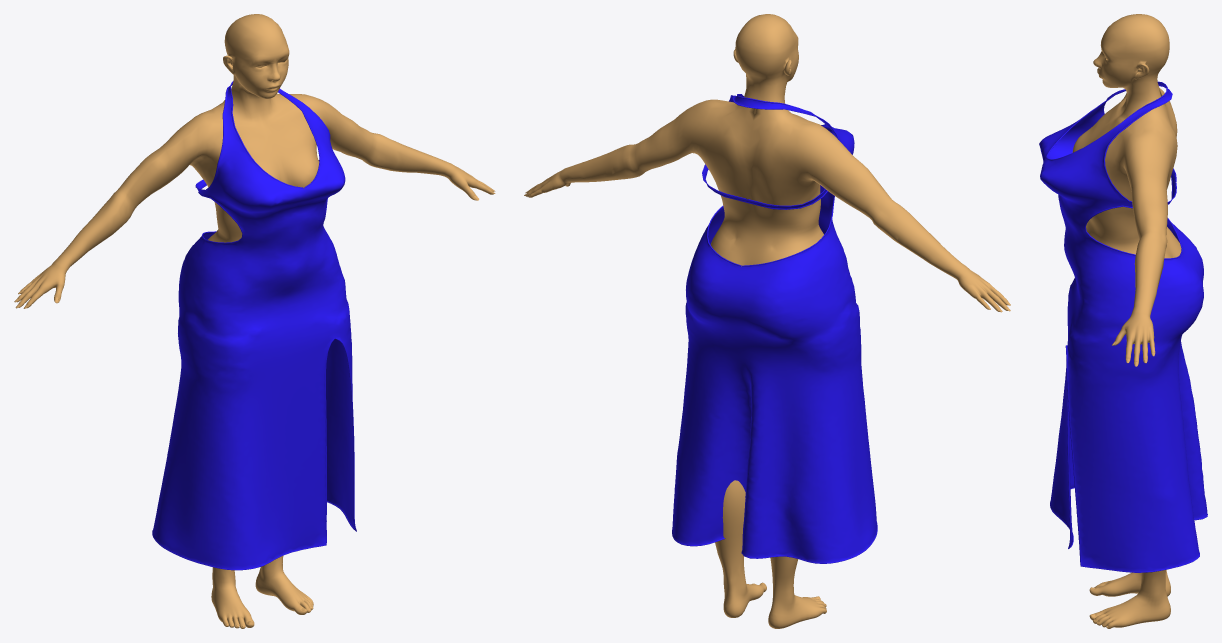
The model's file is dress9.glb.
The picture shows the model from 3 angles, left to right: view 1: azimuth 30°, elevation 25°; view 2: azimuth 150°, elevation 25°; view 3: azimuth 270°, elevation 25°; orthographic projection.
Visible parts, largest first — view 1: EveningDress, Body.008; view 2: EveningDress, Body.008; view 3: EveningDress, Body.008.
Part boxes in pixels (x1,y1,x2,y2): EveningDress: [152, 81, 356, 570]; Body.008: [17, 14, 494, 628]; EveningDress: [672, 94, 877, 563]; Body.008: [525, 14, 1008, 628]; EveningDress: [1039, 81, 1207, 572]; Body.008: [1072, 14, 1181, 628].
Size of the model in its own units: 1.58 by 1.85 by 0.4784.
